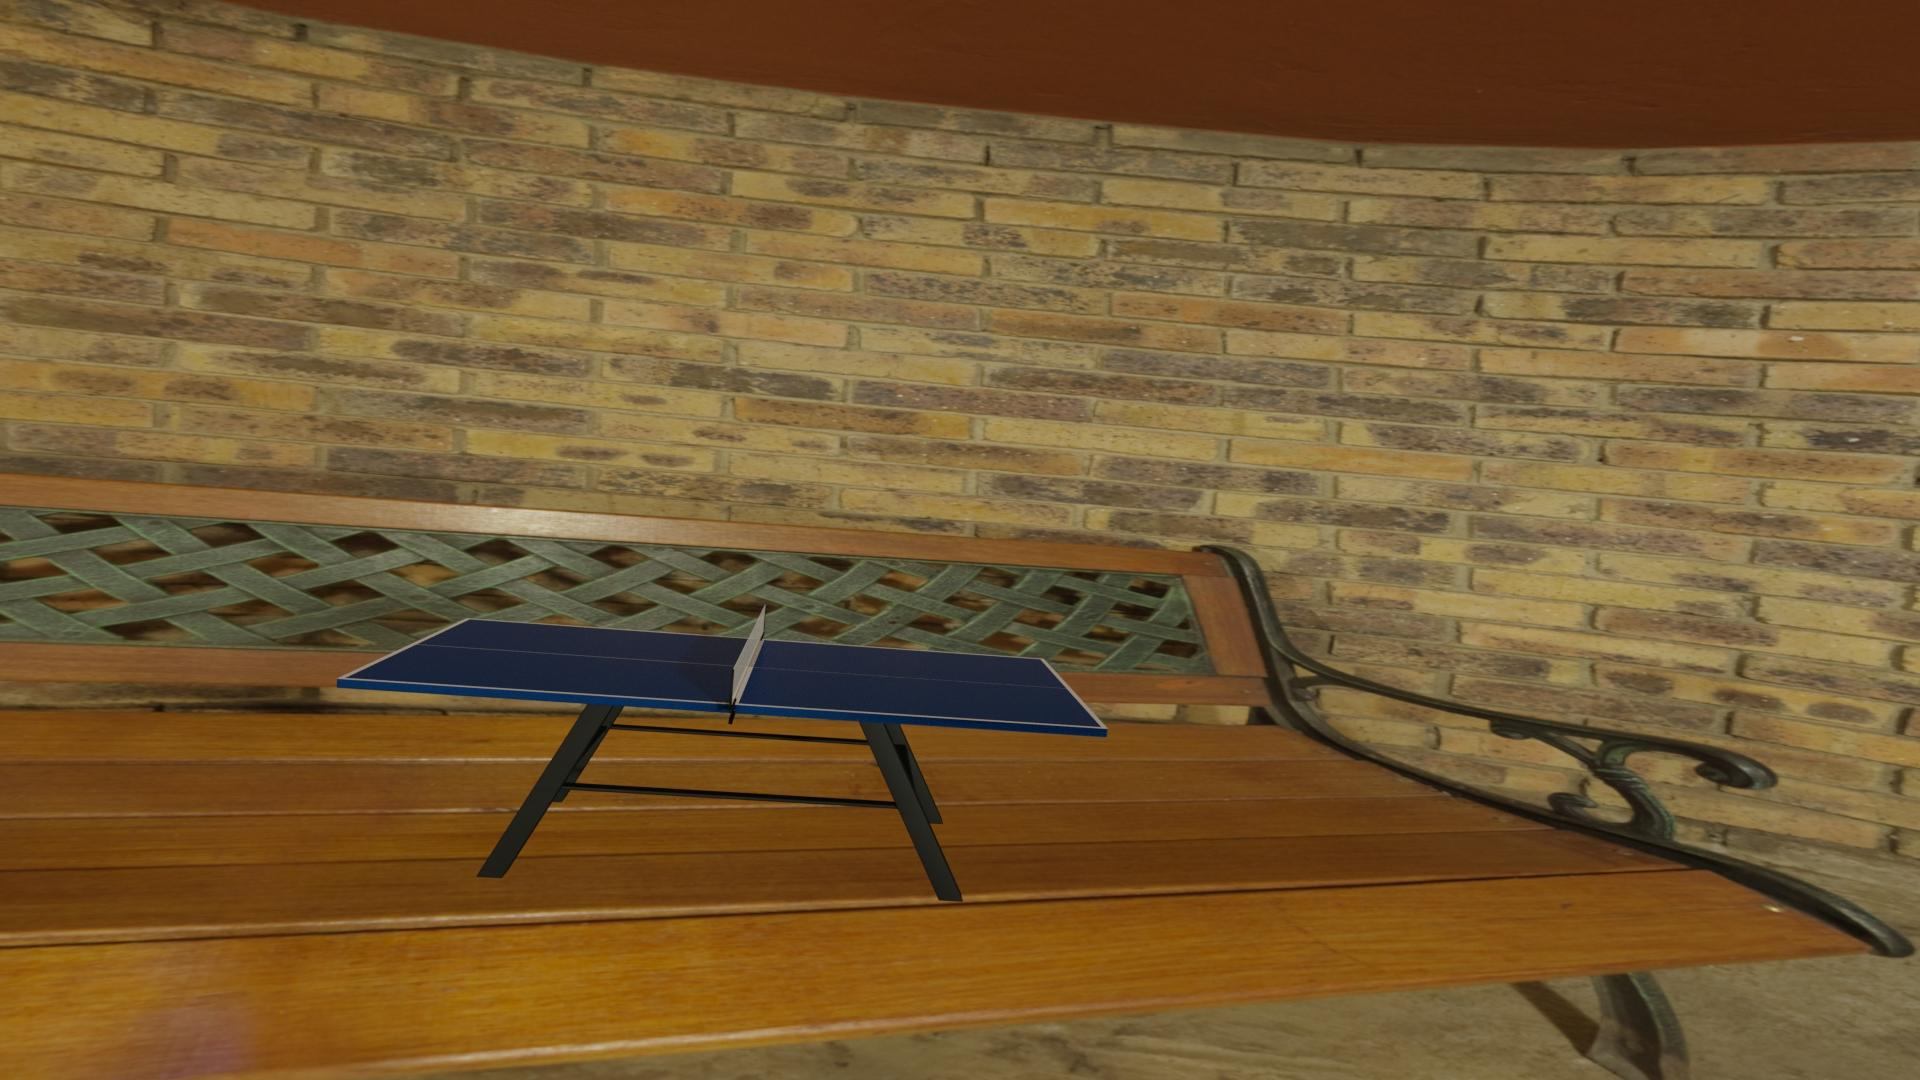table: (344, 620, 1101, 728)
